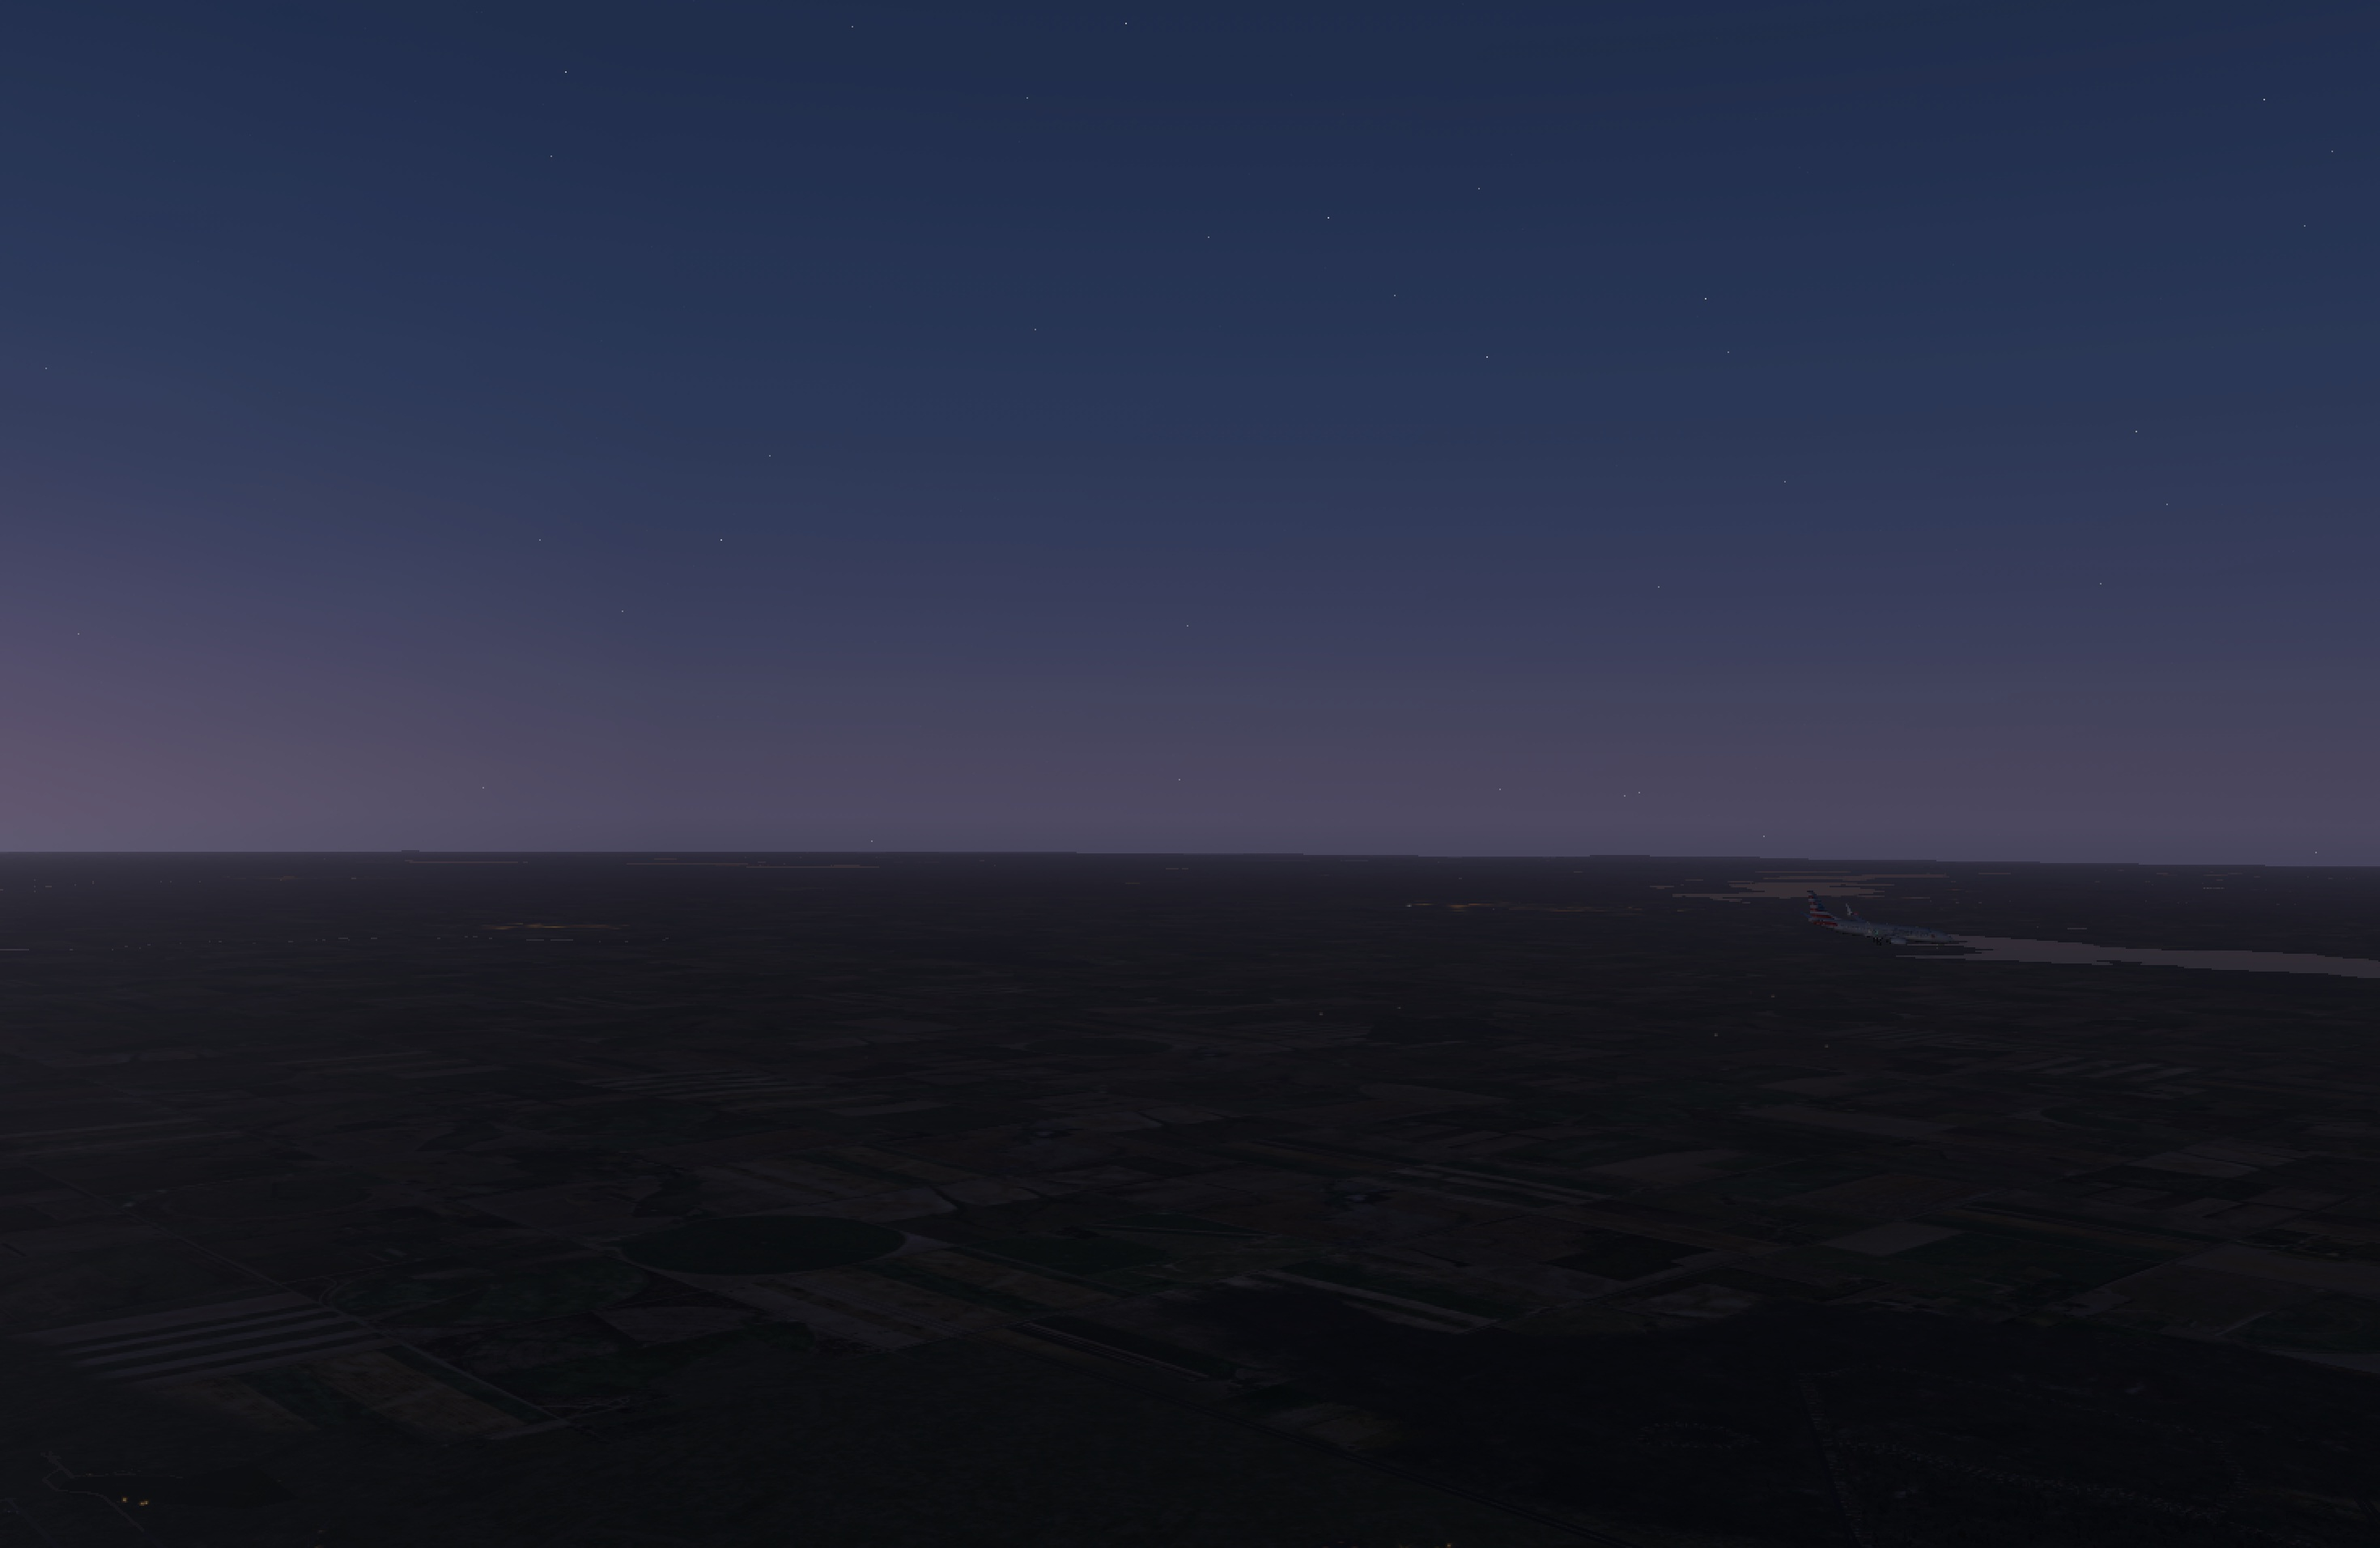aircraft: (1814, 908, 1953, 960)
